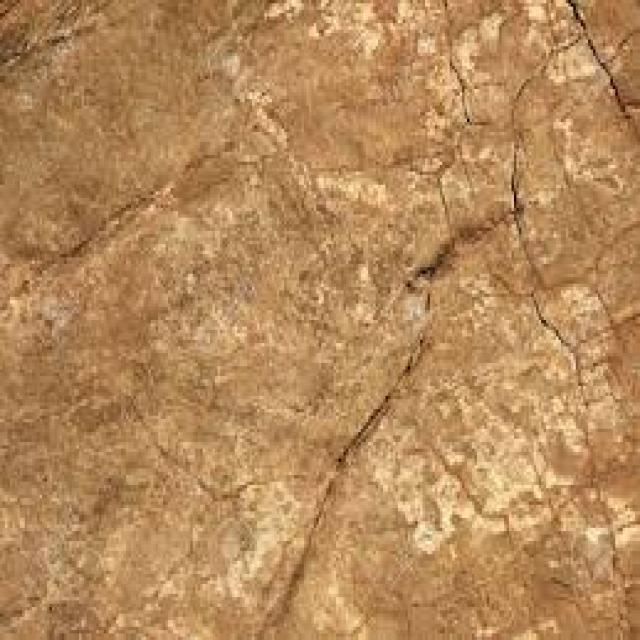Metamorphic: (7, 10, 635, 627)
